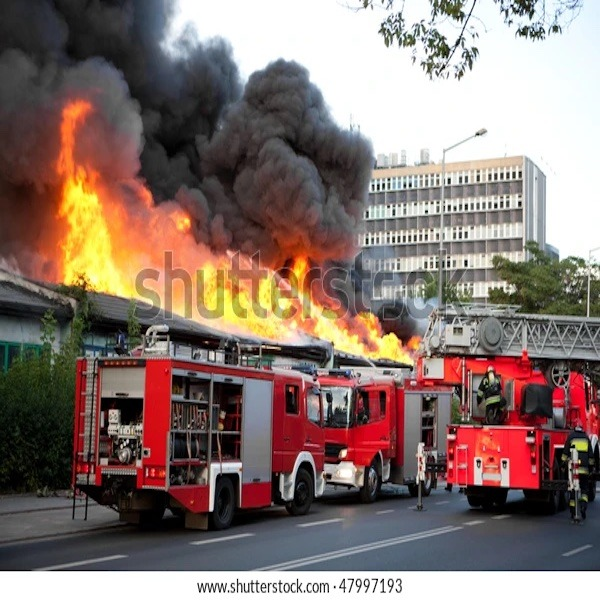fire: (228, 128, 363, 357), (16, 71, 135, 292), (136, 65, 221, 259)
